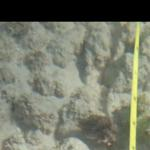dead: (2, 23, 148, 147)
